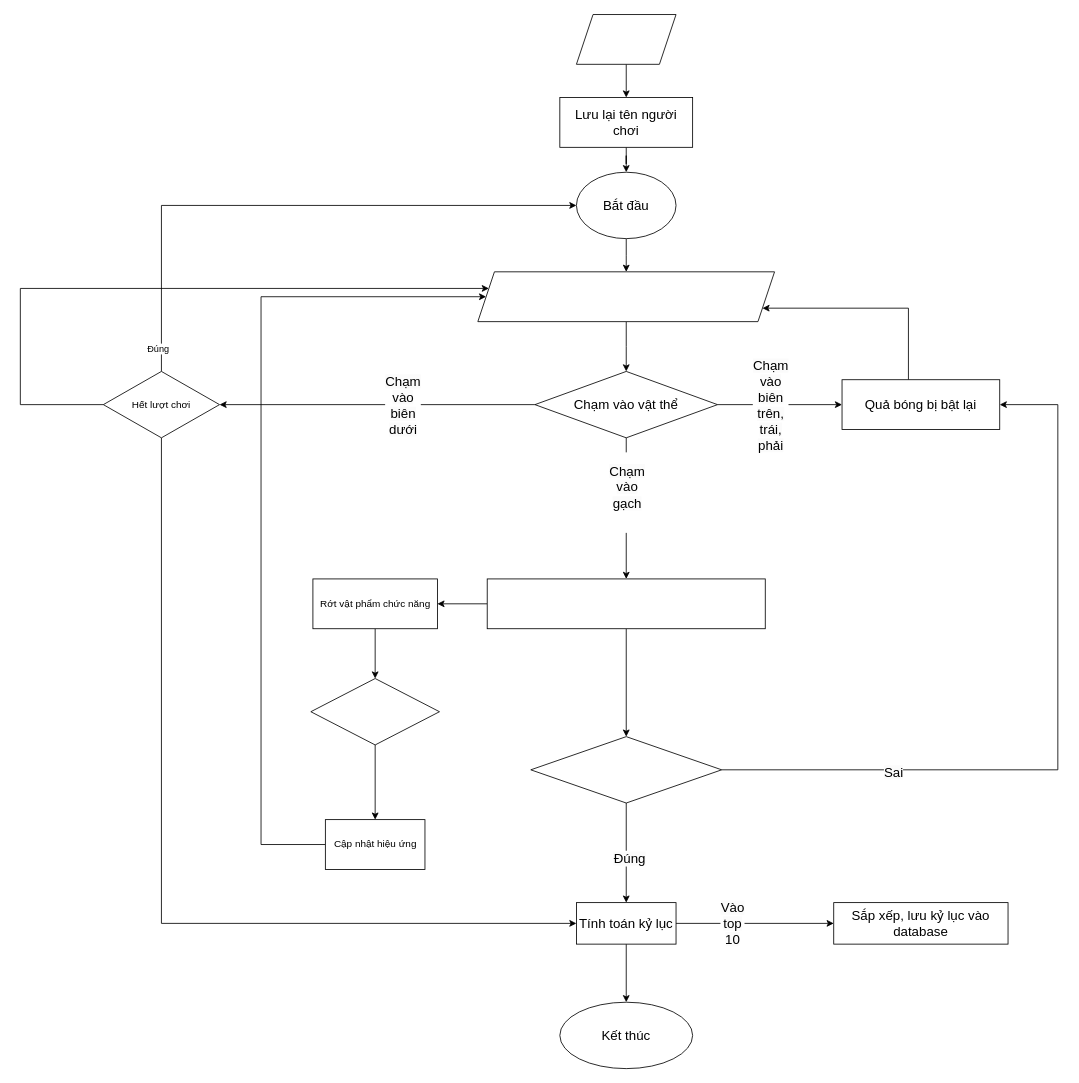
Some shapes in this 1079 by 1083 pixel diagram are drawn without their labels. The centre of each missing label's shape, as x and y in pixels:
"Cập nhật trạng thái gạch, quả bóng bị bật lại" belongs at pixel 625 603.
"Hết gạch" belongs at pixel 626 769.
"Nhập tên" belongs at pixel 626 39.
"Nhặt được" belongs at pixel 374 711.
"Điều khiển bóng phá huỷ các viên gạch" belongs at pixel 626 296.
